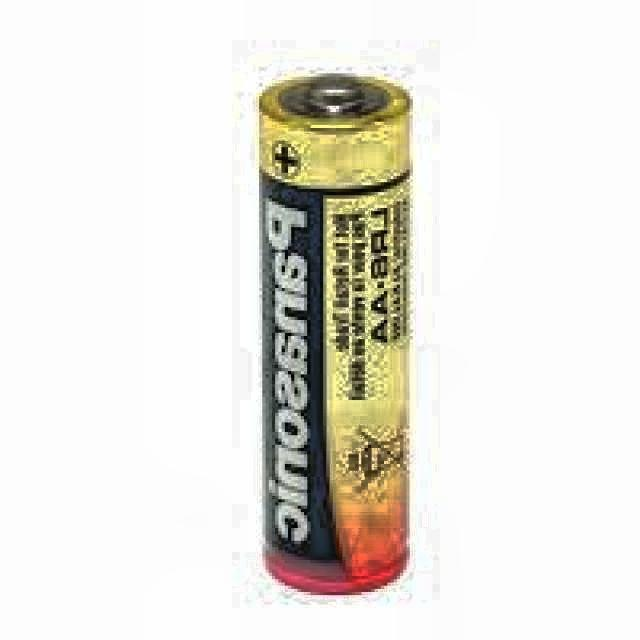battery: (259, 73, 413, 596)
